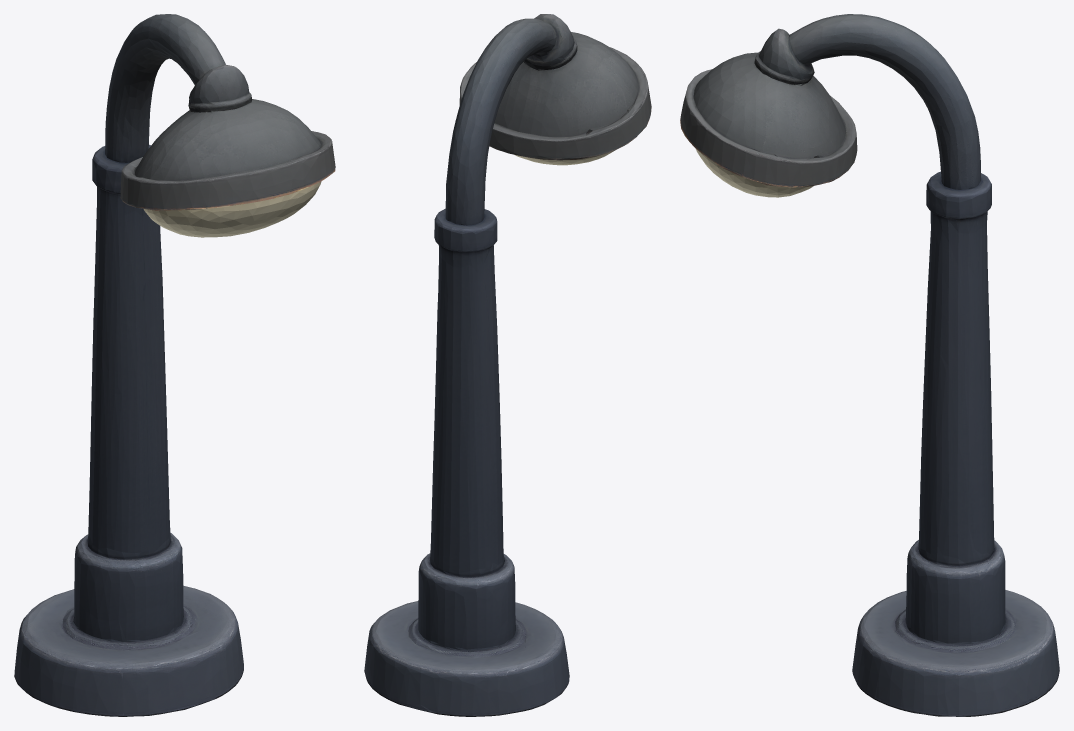
File: street_lamp.glb
The picture shows the model from 3 angles, left to right: view 1: azimuth 30°, elevation 25°; view 2: azimuth 150°, elevation 25°; view 3: azimuth 270°, elevation 25°; orthographic projection. The views are drawn at different scales.
Visible parts, largest first — view 1: geometry_0; view 2: geometry_0; view 3: geometry_0.
Part boxes in pixels (box(x1,y1,x2,y2)): geometry_0: box(14, 14, 335, 716); geometry_0: box(364, 14, 651, 716); geometry_0: box(680, 14, 1059, 716).
Size of the model in its own units: 0.3079 by 0.9976 by 0.5243.
1 material, 1 textured.
